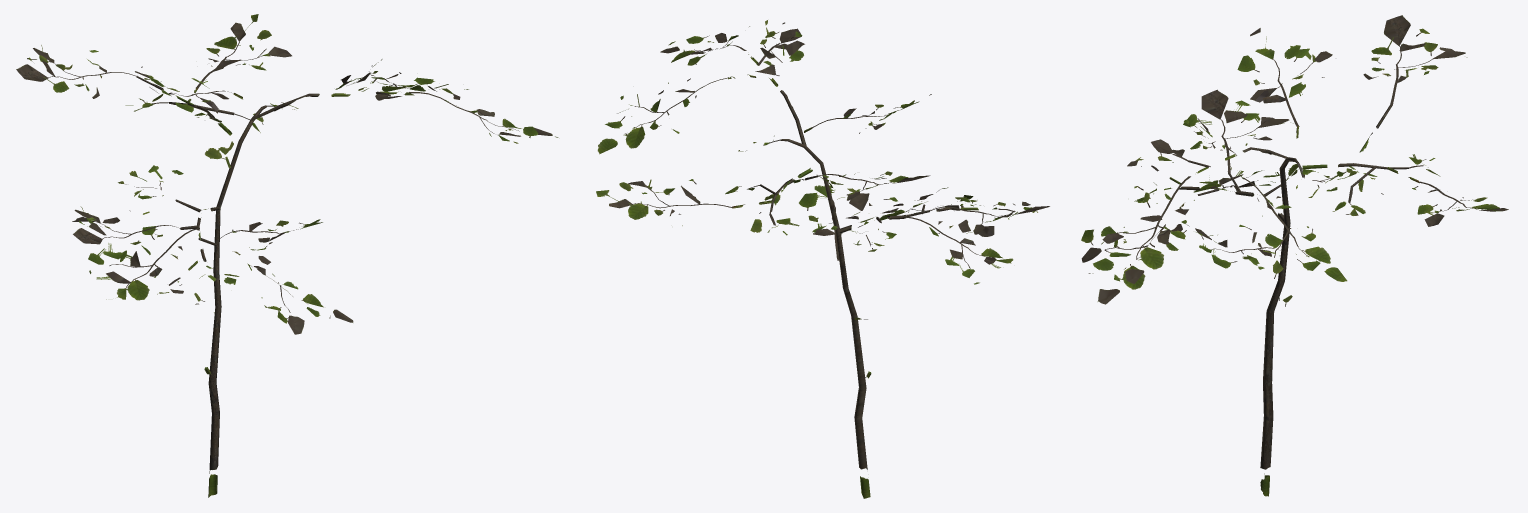
Rendered from SM_BlackAlder_Sapling_02_PP_LOD2.gltf.
3 views of the same model, side by side, from view 1: azimuth 30°, elevation 25°; view 2: azimuth 150°, elevation 25°; view 3: azimuth 270°, elevation 25° (orthographic). The views are drawn at different scales.
Parts seen in each view (by area): view 1: SM_BlackAlder_Sapling_02_PP; view 2: SM_BlackAlder_Sapling_02_PP; view 3: SM_BlackAlder_Sapling_02_PP.
Part boxes in pixels (x1,y1,x2,y2): SM_BlackAlder_Sapling_02_PP: (16, 14, 558, 497); SM_BlackAlder_Sapling_02_PP: (596, 20, 1049, 498); SM_BlackAlder_Sapling_02_PP: (1081, 15, 1508, 496).
Size of the model in its own units: 1.68 by 1.59 by 1.41.
1 material, 1 textured.
